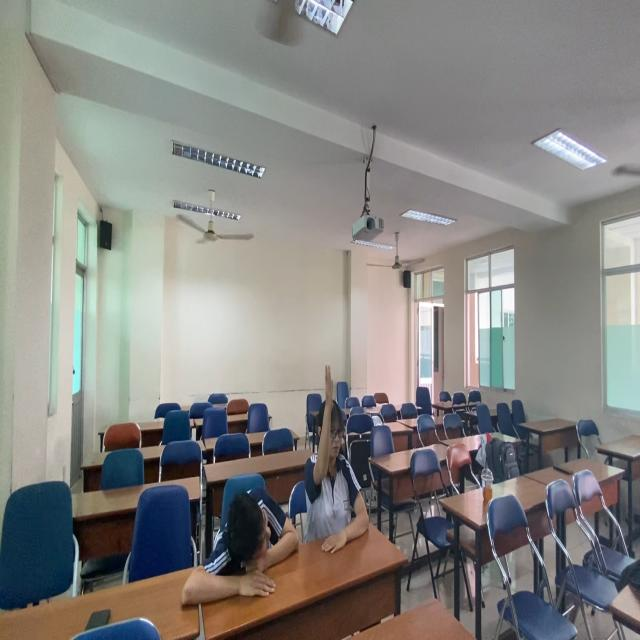raise_hand: (311, 361, 374, 566)
sleep: (177, 481, 310, 622)
